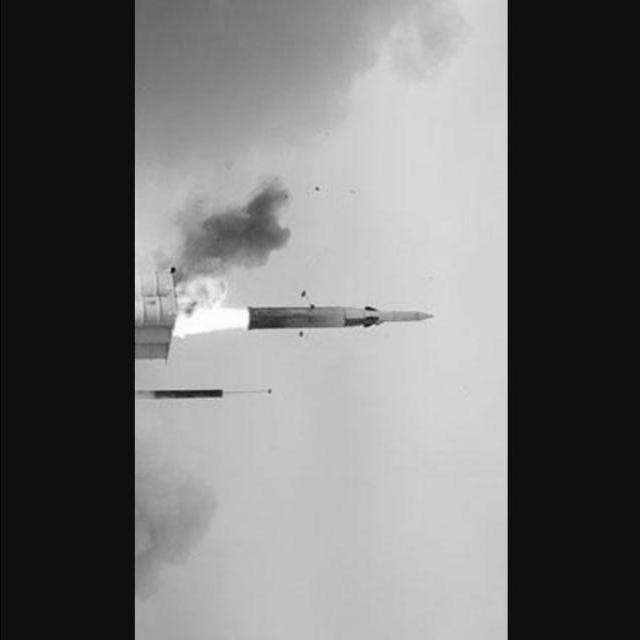missile: (231, 296, 443, 339)
